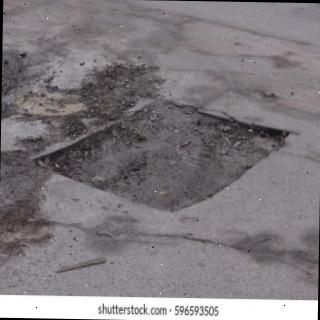pothole: (32, 99, 291, 212)
